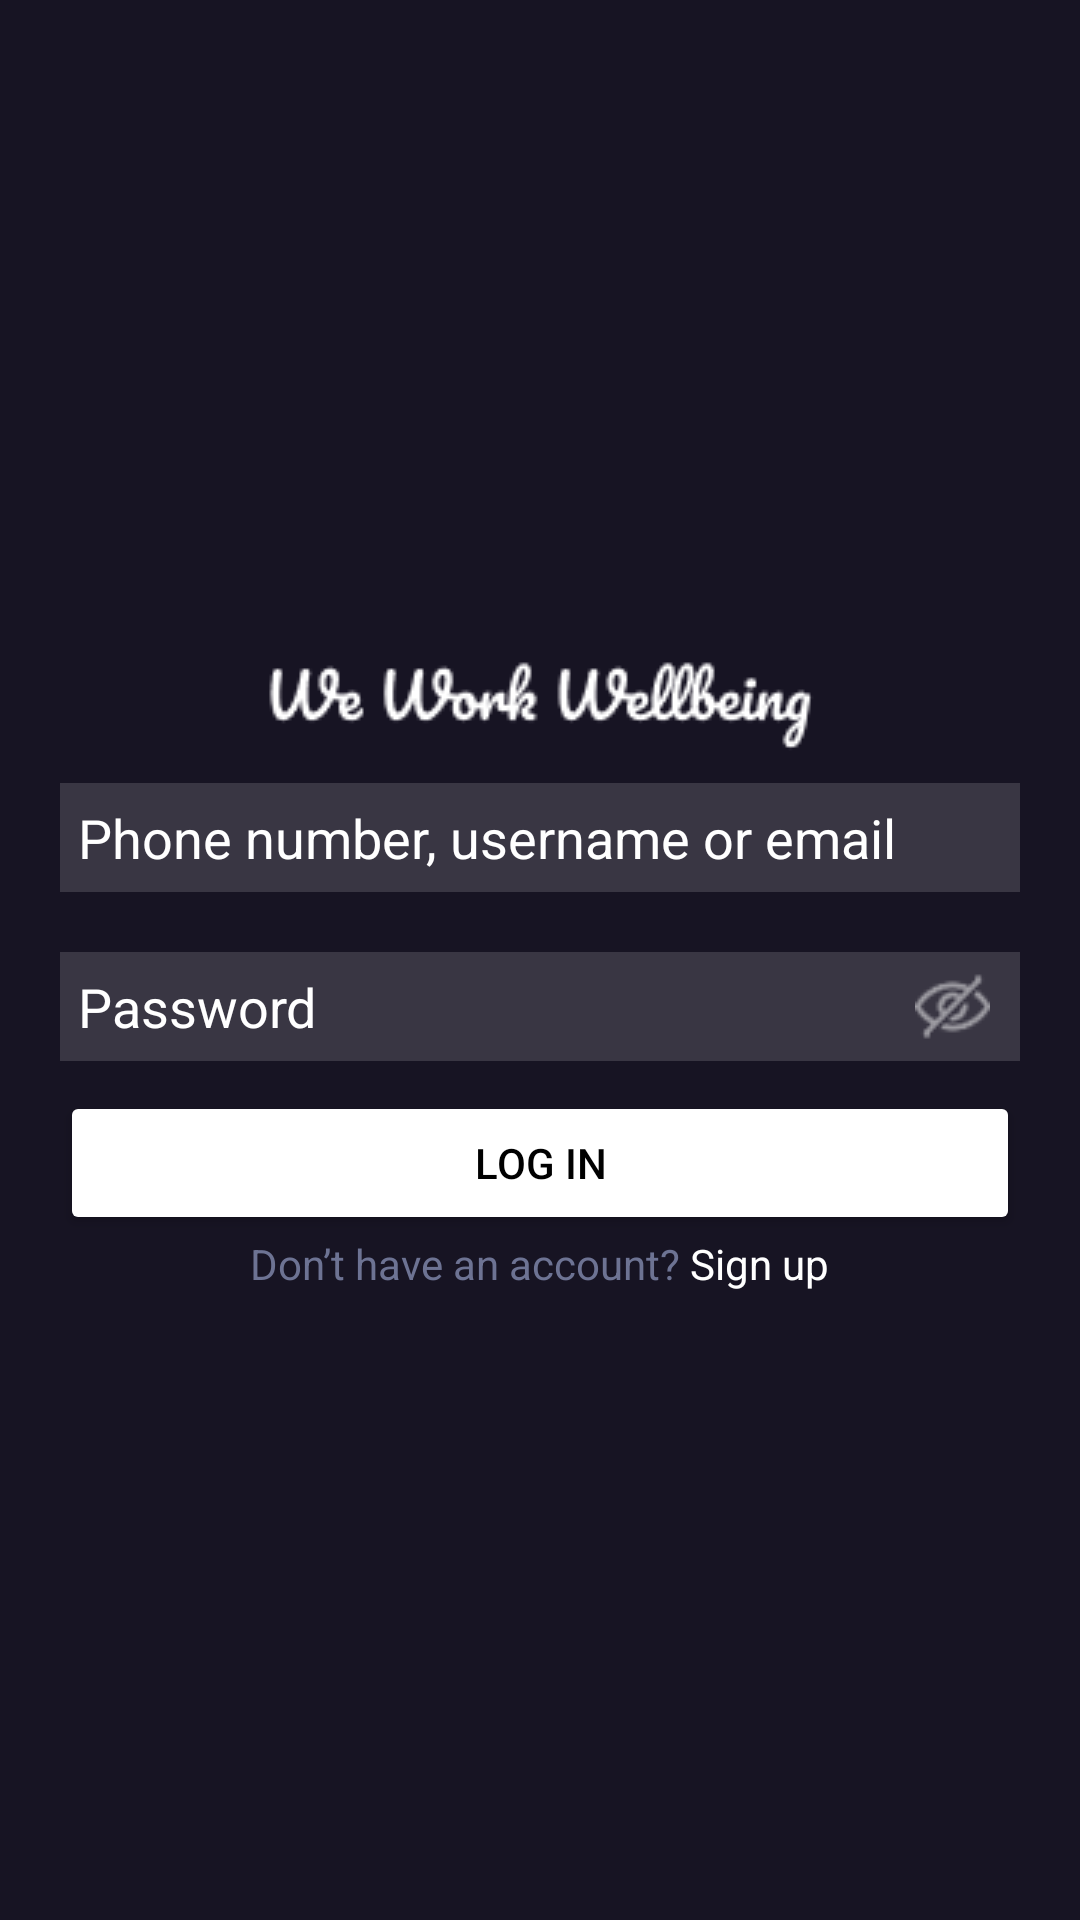

Named icons in this screenshot (1080 × 1920) and their bounding boxes, {"x1": x1, "y1": y1, "x2": x2, "y2": y2}:
hide: {"x1": 915, "y1": 975, "x2": 990, "y2": 1038}
